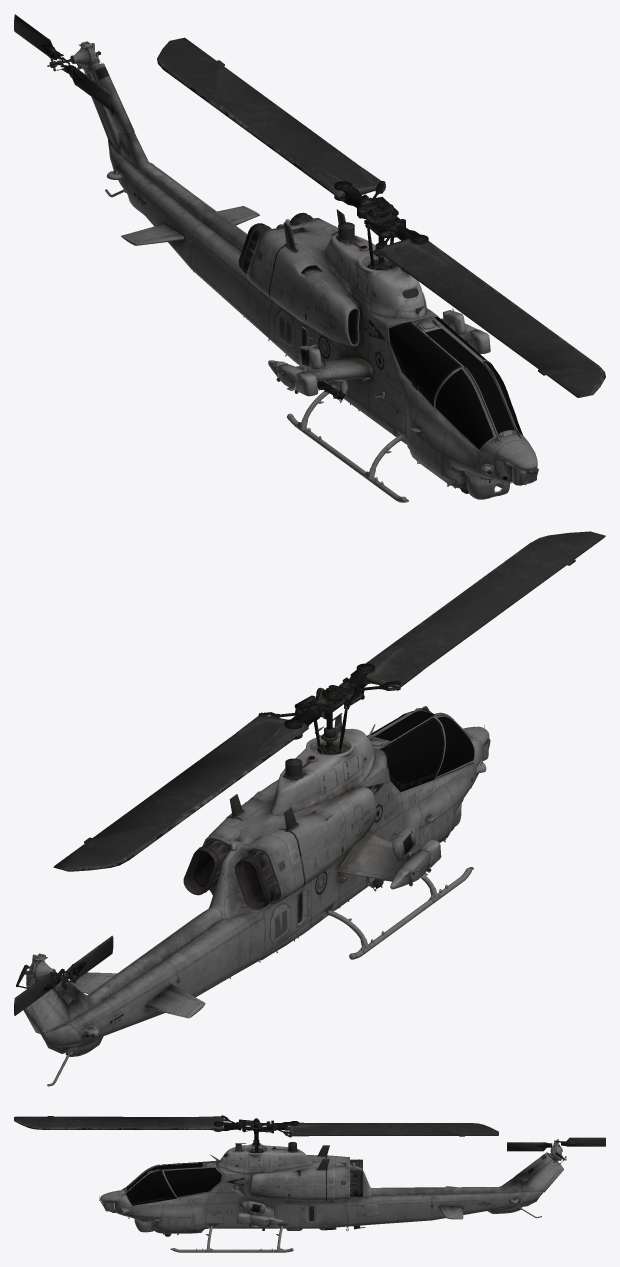
3 views of the same model, one above another, from view 1: azimuth 30°, elevation 25°; view 2: azimuth 150°, elevation 25°; view 3: azimuth 270°, elevation 25° (orthographic). The views are drawn at different scales.
Parts seen in each view (by area): view 1: mesh19.dat.desirefx.me_, mesh18.dat.desirefx.me_, mesh40.dat.desirefx.me_, mesh41.dat.desirefx.me_, mesh1.dat.desirefx.me_, mesh20.dat.desirefx.me_, mesh2.dat.desirefx.me_, mesh9.dat.desirefx.me_, mesh21.dat.desirefx.me_, mesh8.dat.desirefx.me_, mesh26.dat.desirefx.me_, mesh23.dat.desirefx.me_ (+3 smaller); view 2: mesh19.dat.desirefx.me_, mesh18.dat.desirefx.me_, mesh41.dat.desirefx.me_, mesh40.dat.desirefx.me_, mesh20.dat.desirefx.me_, mesh2.dat.desirefx.me_, mesh1.dat.desirefx.me_, mesh9.dat.desirefx.me_, mesh8.dat.desirefx.me_, mesh21.dat.desirefx.me_, mesh23.dat.desirefx.me_, mesh36.dat.desirefx.me_ (+1 smaller); view 3: mesh19.dat.desirefx.me_, mesh18.dat.desirefx.me_, mesh40.dat.desirefx.me_, mesh41.dat.desirefx.me_, mesh1.dat.desirefx.me_, mesh20.dat.desirefx.me_, mesh3.dat.desirefx.me_, mesh9.dat.desirefx.me_, mesh36.dat.desirefx.me_, mesh26.dat.desirefx.me_, mesh23.dat.desirefx.me_, mesh21.dat.desirefx.me_ (+4 smaller).
Boxes of the visible parts, <box> form: mesh19.dat.desirefx.me_: <box>247,209,537,488</box>; mesh18.dat.desirefx.me_: <box>70,41,312,340</box>; mesh40.dat.desirefx.me_: <box>376,238,605,397</box>; mesh41.dat.desirefx.me_: <box>157,37,385,200</box>; mesh1.dat.desirefx.me_: <box>425,316,514,449</box>; mesh20.dat.desirefx.me_: <box>268,308,490,402</box>; mesh2.dat.desirefx.me_: <box>390,323,457,400</box>; mesh9.dat.desirefx.me_: <box>287,385,408,502</box>; mesh21.dat.desirefx.me_: <box>364,217,428,254</box>; mesh8.dat.desirefx.me_: <box>121,224,184,245</box>; mesh26.dat.desirefx.me_: <box>62,64,111,109</box>; mesh23.dat.desirefx.me_: <box>334,181,398,215</box>; mesh19.dat.desirefx.me_: <box>202,706,489,960</box>; mesh18.dat.desirefx.me_: <box>16,840,279,1086</box>; mesh41.dat.desirefx.me_: <box>53,715,308,871</box>; mesh40.dat.desirefx.me_: <box>350,531,605,688</box>; mesh20.dat.desirefx.me_: <box>245,791,441,891</box>; mesh2.dat.desirefx.me_: <box>383,719,442,784</box>; mesh1.dat.desirefx.me_: <box>367,711,474,776</box>; mesh9.dat.desirefx.me_: <box>328,867,473,959</box>; mesh8.dat.desirefx.me_: <box>145,984,205,1018</box>; mesh21.dat.desirefx.me_: <box>339,663,400,706</box>; mesh23.dat.desirefx.me_: <box>258,695,321,739</box>; mesh36.dat.desirefx.me_: <box>14,968,64,1015</box>; mesh19.dat.desirefx.me_: <box>100,1143,371,1235</box>; mesh18.dat.desirefx.me_: <box>345,1142,566,1229</box>; mesh40.dat.desirefx.me_: <box>14,1116,223,1130</box>; mesh41.dat.desirefx.me_: <box>289,1122,498,1136</box>; mesh1.dat.desirefx.me_: <box>127,1163,221,1196</box>; mesh20.dat.desirefx.me_: <box>236,1200,283,1227</box>; mesh3.dat.desirefx.me_: <box>127,1171,172,1202</box>; mesh9.dat.desirefx.me_: <box>170,1225,293,1252</box>; mesh36.dat.desirefx.me_: <box>557,1137,605,1146</box>; mesh26.dat.desirefx.me_: <box>507,1142,552,1151</box>; mesh23.dat.desirefx.me_: <box>256,1120,299,1137</box>; mesh21.dat.desirefx.me_: <box>213,1115,252,1131</box>.
Bounding box in the file's own units: 0.0324 × 0.0383 × 0.1715.
Materials: 39 (37 with a texture image).
